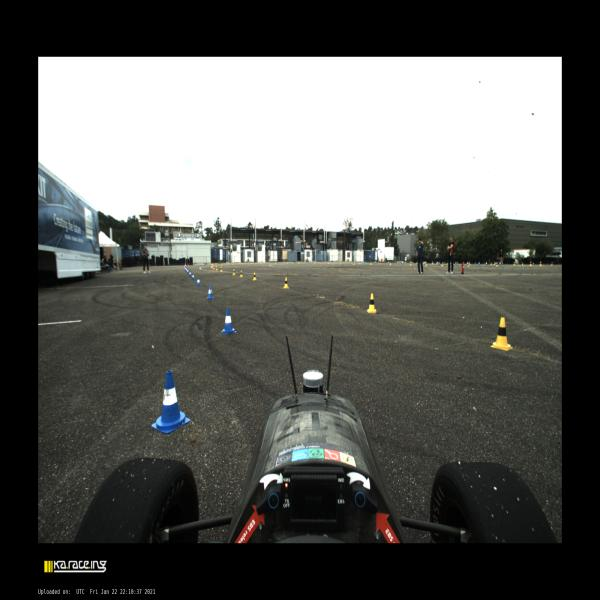blue_cone: (151, 370, 190, 434), (222, 308, 236, 335), (206, 286, 214, 299), (196, 277, 201, 286), (191, 273, 195, 280), (185, 267, 187, 273), (189, 270, 191, 276), (485, 262, 488, 266), (184, 266, 186, 271), (186, 269, 188, 274), (309, 260, 311, 264), (325, 260, 327, 264), (338, 260, 340, 264), (278, 261, 280, 264), (295, 261, 297, 264), (375, 261, 377, 264), (457, 262, 459, 265), (466, 262, 468, 265), (478, 262, 480, 265), (499, 262, 501, 265), (532, 262, 534, 265), (188, 264, 189, 268), (195, 263, 196, 267), (438, 262, 440, 264), (443, 262, 445, 264), (455, 262, 457, 264), (474, 262, 476, 264), (405, 260, 406, 264), (203, 263, 204, 266), (363, 261, 364, 264), (388, 261, 389, 264), (402, 261, 403, 264), (424, 262, 425, 265), (502, 262, 503, 265)
large_orange_cone: (212, 262, 214, 269), (184, 263, 186, 270)
yellow_cone: (491, 318, 513, 351), (367, 294, 376, 312), (283, 277, 289, 289), (253, 272, 257, 281), (240, 270, 243, 278), (220, 266, 223, 272), (539, 261, 542, 266), (233, 269, 235, 275), (216, 265, 218, 271), (425, 262, 428, 266), (467, 262, 470, 266), (529, 262, 532, 266), (212, 265, 214, 270), (442, 262, 444, 267), (496, 262, 498, 267), (490, 262, 493, 265), (232, 262, 234, 266), (298, 260, 300, 264), (410, 262, 412, 266), (494, 261, 496, 265), (513, 262, 515, 266), (370, 262, 372, 265), (339, 261, 341, 264), (248, 262, 250, 265), (353, 262, 355, 265), (416, 261, 418, 264), (522, 262, 524, 265), (551, 262, 553, 265), (314, 260, 315, 264), (221, 262, 222, 266), (261, 262, 263, 264), (390, 262, 391, 265), (328, 261, 329, 264), (275, 261, 276, 264), (287, 261, 288, 264), (432, 261, 433, 264)
